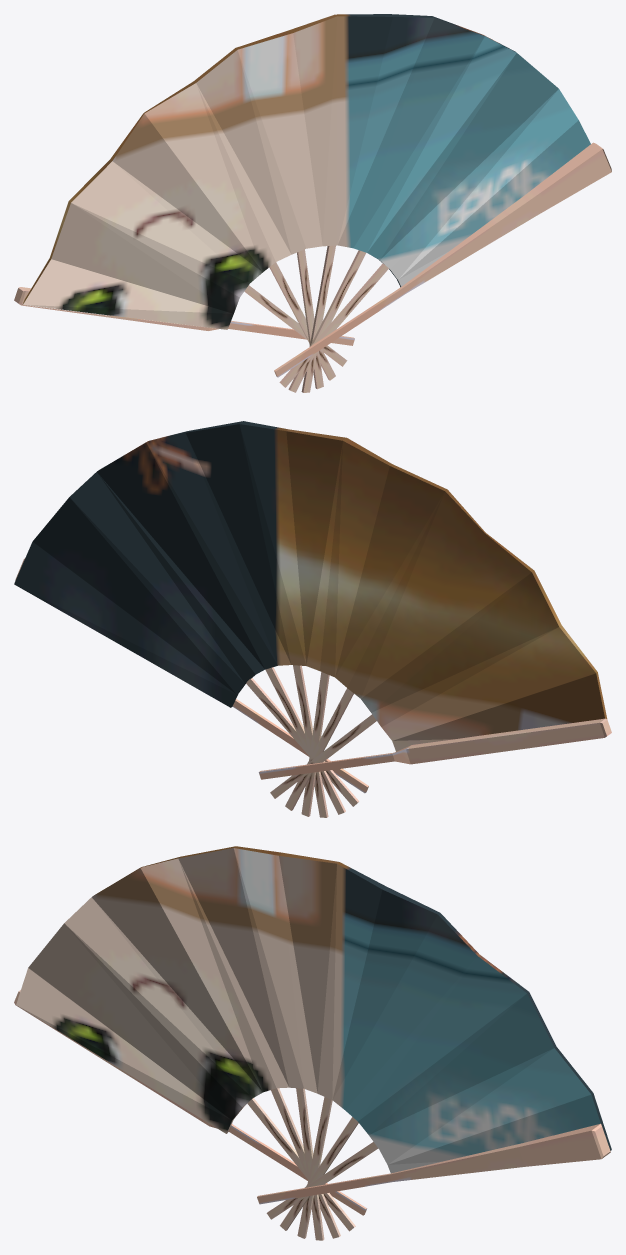
Rendered from view.ico.obj.
The picture shows the model from 3 angles, top to bottom: view 1: azimuth 30°, elevation 25°; view 2: azimuth 150°, elevation 25°; view 3: azimuth 330°, elevation 25°; orthographic projection. The views are drawn at different scales.
Size of the model in its own units: 4.5 by 2.72 by 0.2446.
